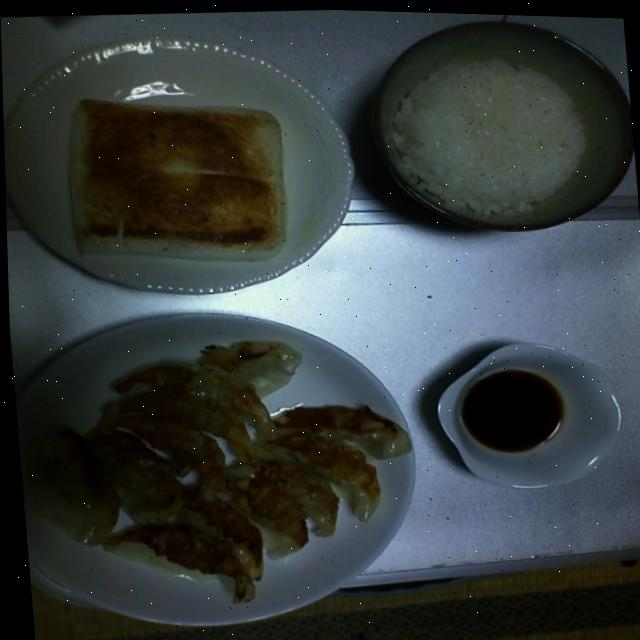带馅早点: (8, 306, 436, 640)
米饭主食: (371, 36, 614, 234)
